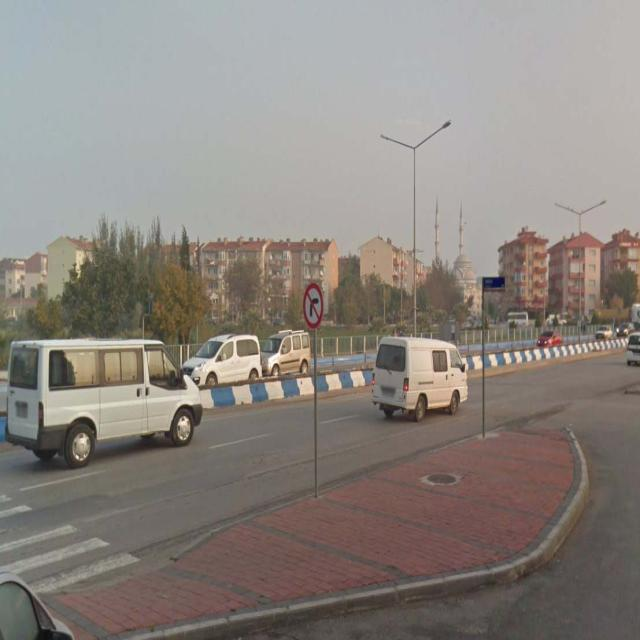sagadonulmez: (304, 283, 322, 324)
